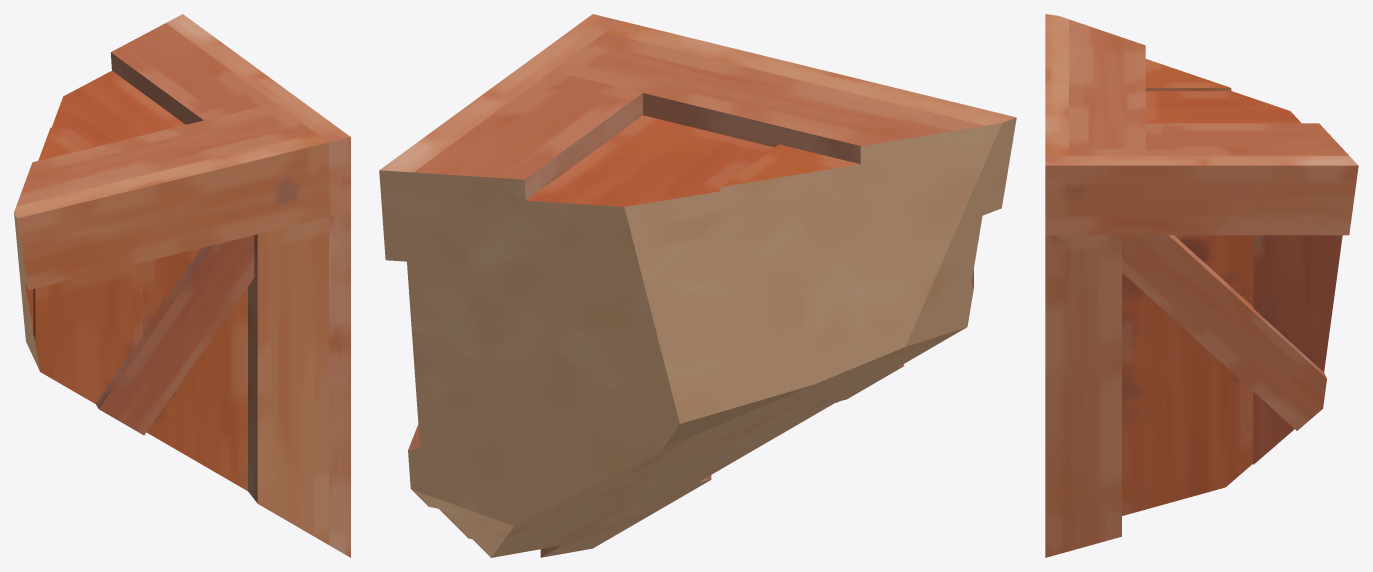
Rendered from crate_s02.fbx.
3 views of the same model, side by side, from view 1: azimuth 30°, elevation 25°; view 2: azimuth 150°, elevation 25°; view 3: azimuth 270°, elevation 25° (orthographic). The views are drawn at different scales.
Parts seen in each view (by area): view 1: crate_s02; view 2: crate_s02; view 3: crate_s02.
Boxes of the visible parts, x1,y1,x2,y2 form: crate_s02: (14, 14, 350, 557); crate_s02: (379, 14, 1016, 557); crate_s02: (1045, 14, 1358, 557).
Bounding box in the file's own units: 1.97 × 2.37 × 1.72.
